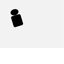human: (8, 6, 25, 27)
